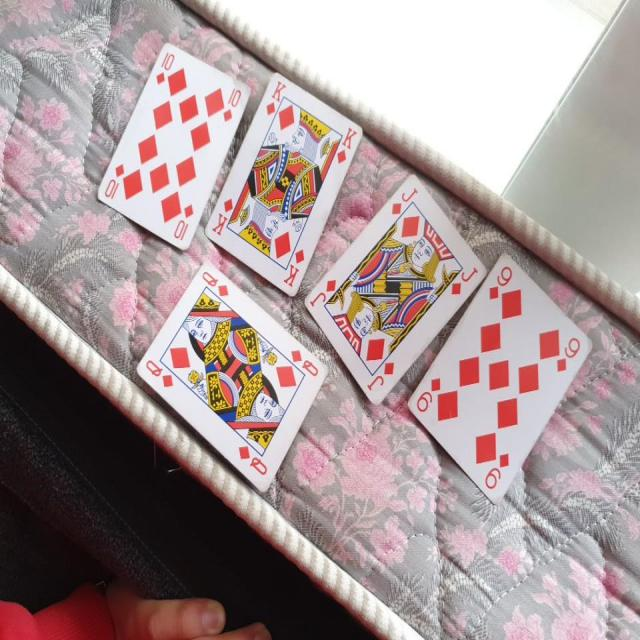10 Diamonds: (94, 39, 251, 254)
9 Diamonds: (404, 249, 593, 502)
J Diamonds: (301, 170, 488, 405)
K Diamonds: (205, 69, 365, 298)
Q Diamonds: (136, 258, 330, 493)
